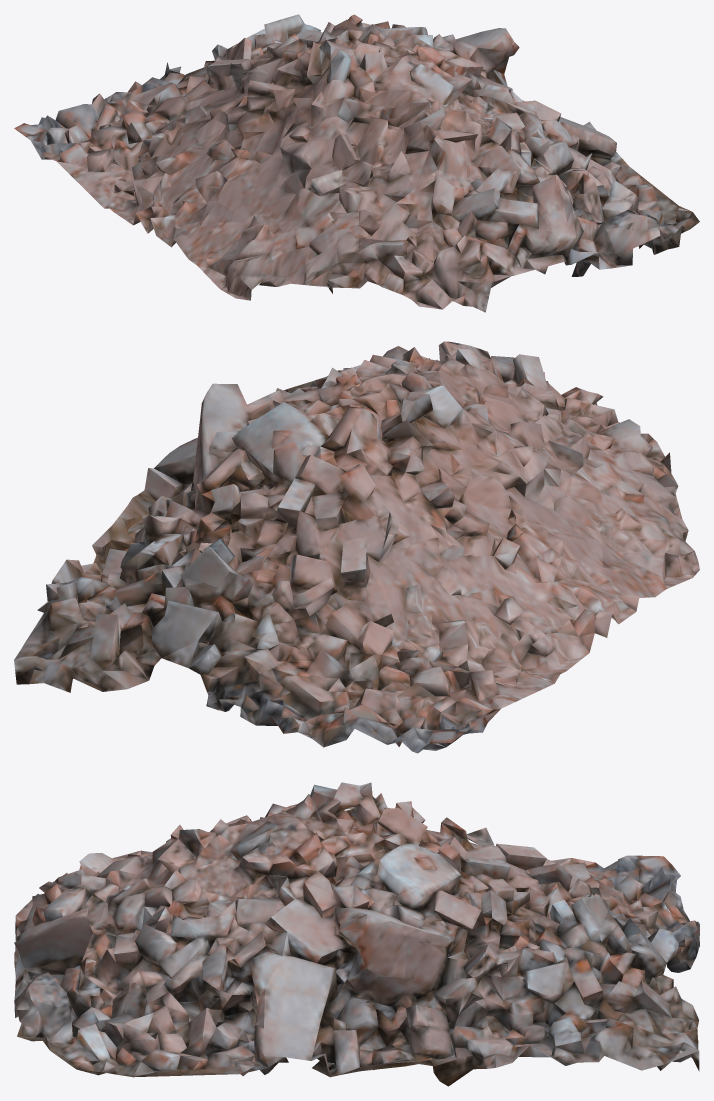
The model's file is bricks_Debri.fbx.
3 renders of one model, top to bottom at view 1: azimuth 30°, elevation 25°; view 2: azimuth 150°, elevation 25°; view 3: azimuth 270°, elevation 25°, orthographic. The views are drawn at different scales.
Visible parts, largest first — view 1: bricks; view 2: bricks; view 3: bricks.
Boxes of the visible parts, x1,y1,x2,y2 form: bricks: (14, 14, 699, 312); bricks: (14, 341, 699, 753); bricks: (14, 782, 699, 1086).
Size of the model in its own units: 313 by 127 by 409.
